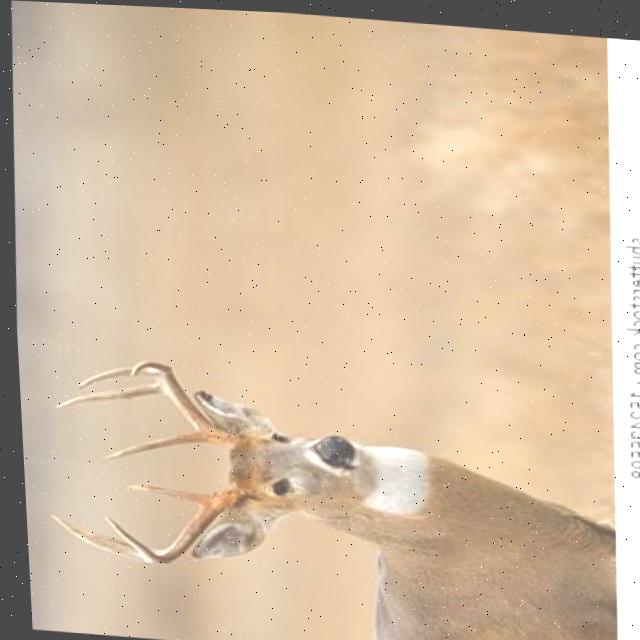L-F: (98, 486, 235, 562)
R-F: (126, 359, 232, 443)
